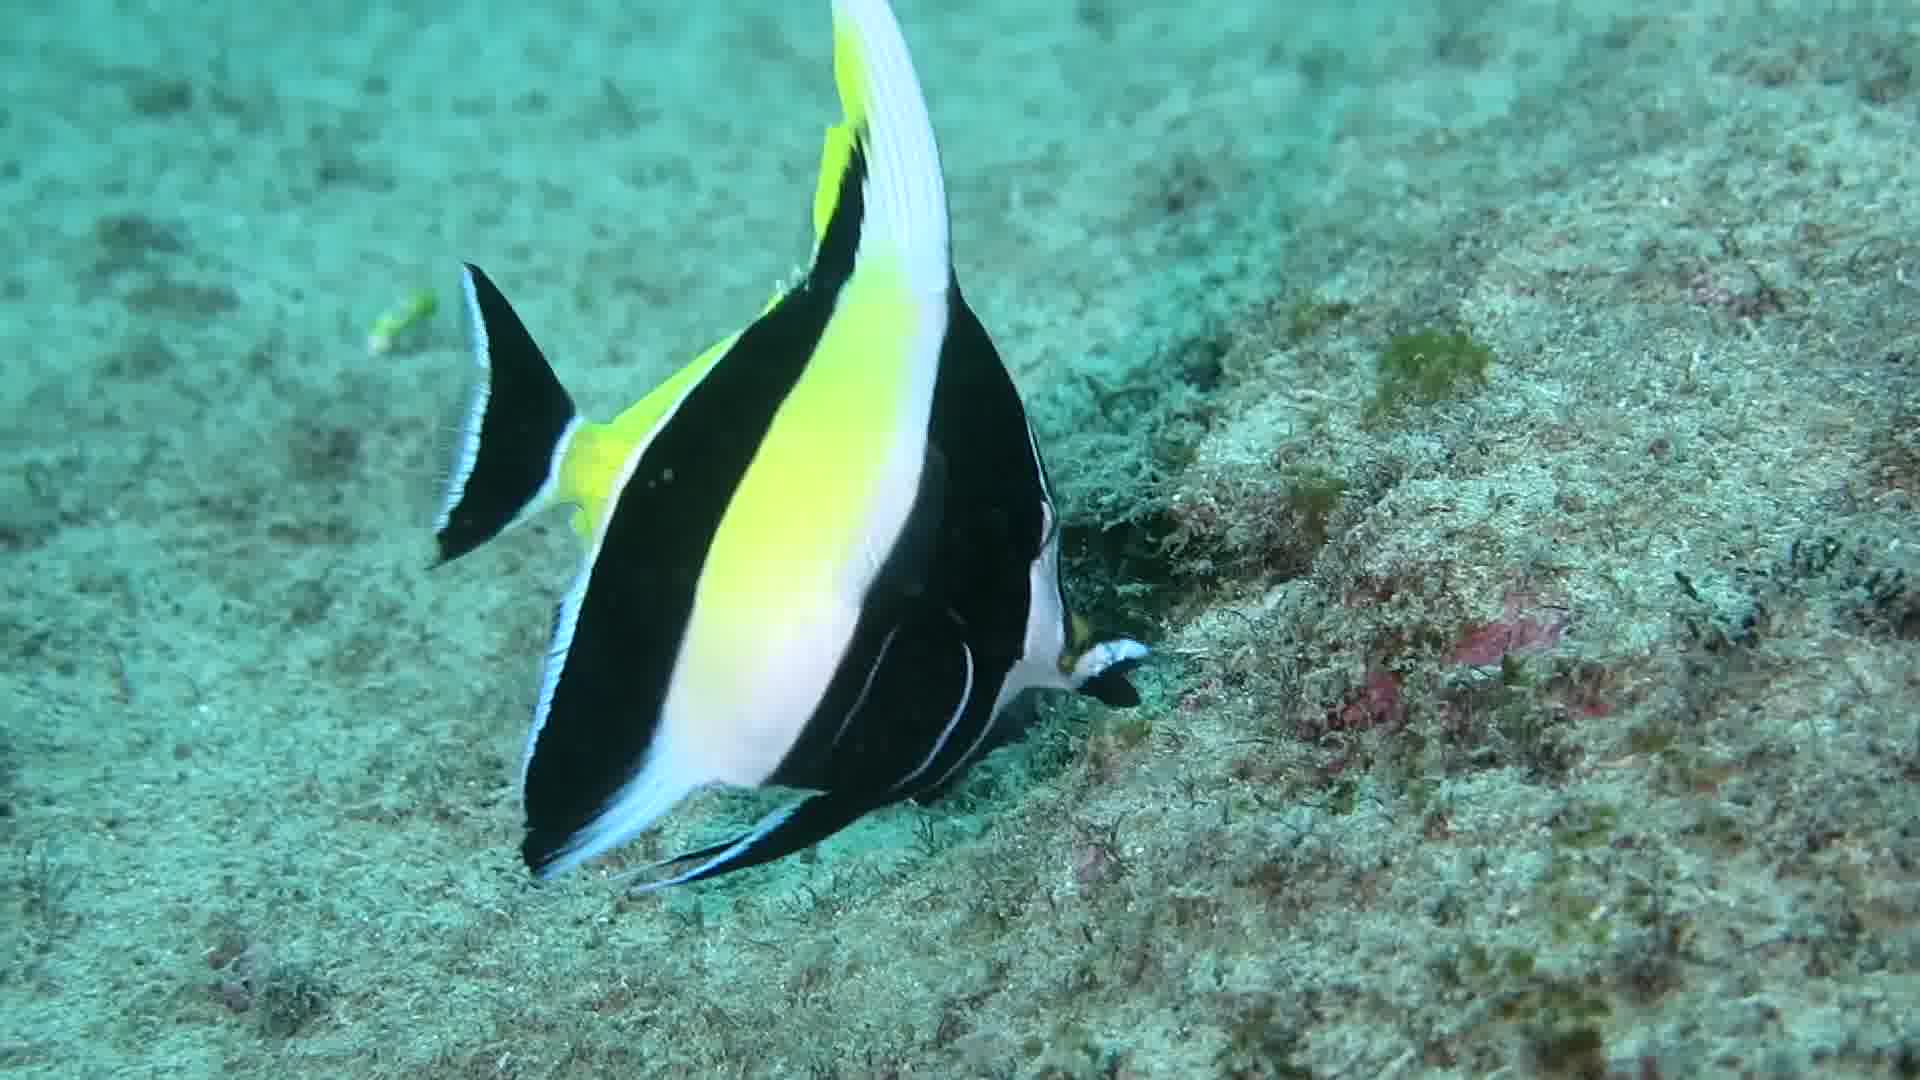Zanclus cornutus: (404, 162, 1174, 928)
